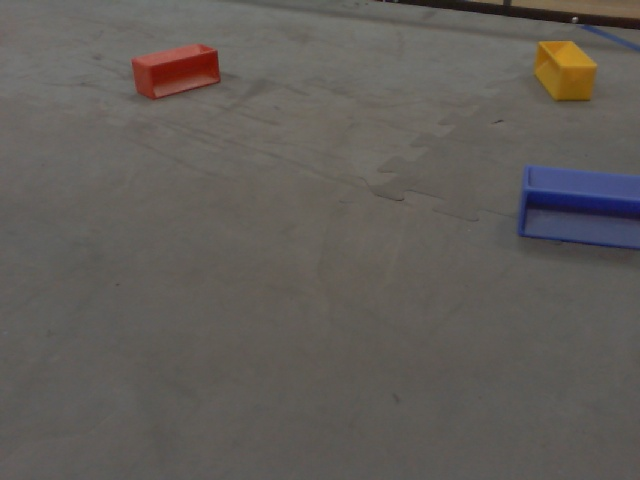BlueSample: (515, 159, 640, 256)
RedSample: (126, 41, 225, 101)
YellowSample: (528, 33, 600, 105)
